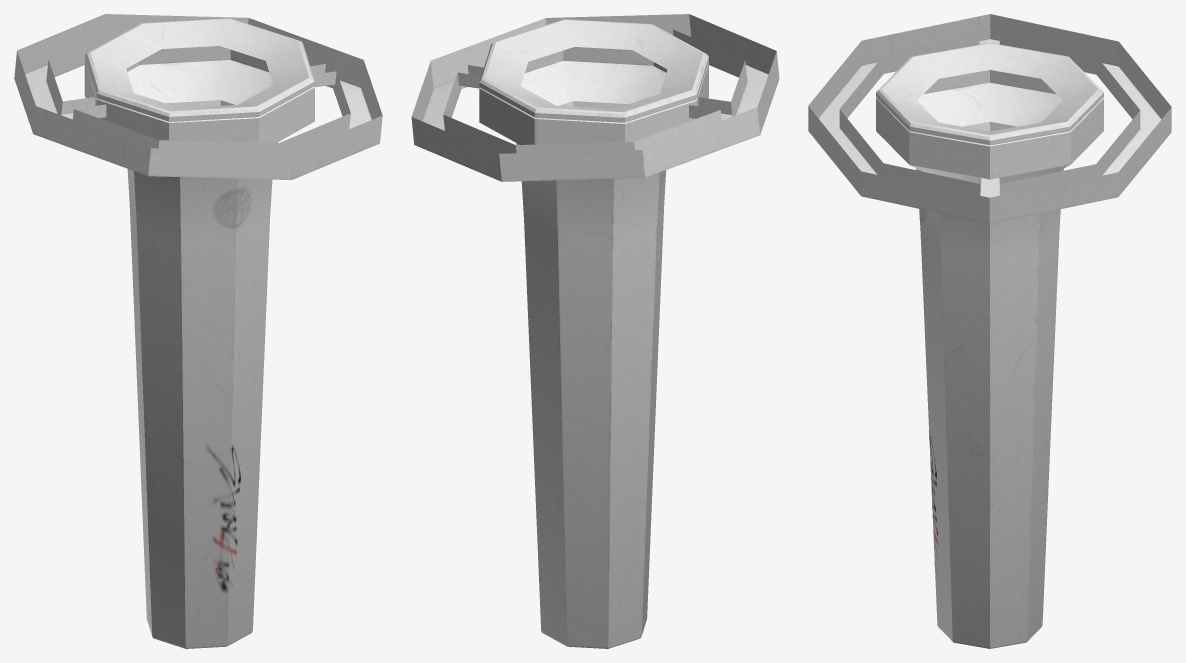
The model's file is STRAYKIDS_02.glb.
3 renders of one model, left to right at view 1: azimuth 30°, elevation 25°; view 2: azimuth 150°, elevation 25°; view 3: azimuth 270°, elevation 25°, orthographic. The views are drawn at different scales.
Visible parts, largest first — view 1: STRAYKIDS_02; view 2: STRAYKIDS_02; view 3: STRAYKIDS_02.
Boxes of the visible parts, <box> form: STRAYKIDS_02: <box>14,14,382,648</box>; STRAYKIDS_02: <box>411,14,779,648</box>; STRAYKIDS_02: <box>808,14,1171,648</box>.
Bounding box in the file's own units: 0.2193 × 0.3572 × 0.2185.
1 material, 1 textured.
